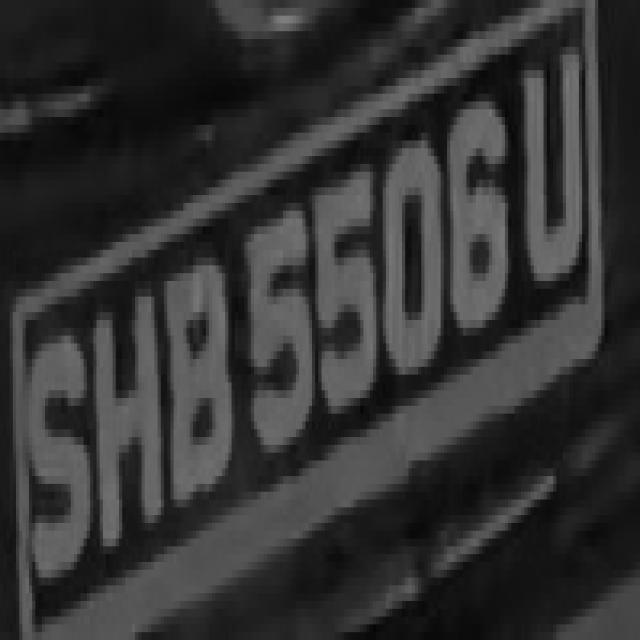0: (366, 110, 444, 390)
5: (241, 187, 315, 484), (306, 164, 382, 453)
6: (440, 78, 518, 351)
B: (164, 226, 232, 531)
H: (87, 265, 164, 562)
S: (6, 312, 90, 609)
U: (515, 31, 595, 320)
